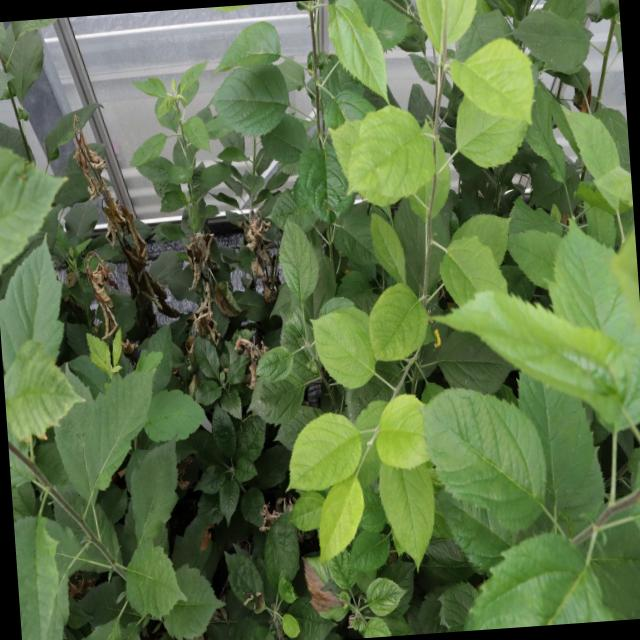-FireBlight-: (74, 123, 175, 319), (178, 224, 239, 360), (243, 213, 280, 306), (81, 237, 116, 332), (232, 325, 277, 388)
